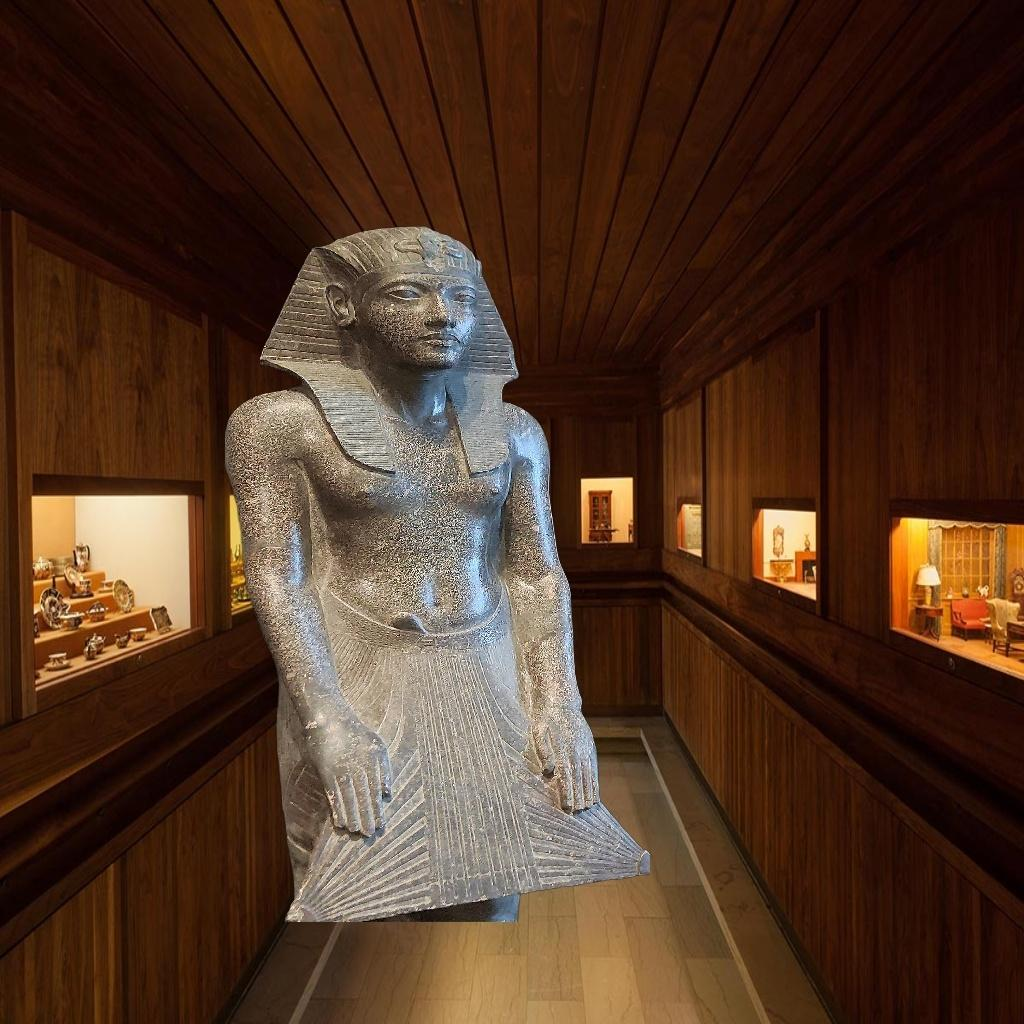Granite Statue of Tutankhamun: (226, 226, 650, 922)
